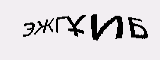Б: (127, 13, 149, 42)
Г: (51, 14, 66, 34)
Ж: (34, 17, 55, 36)
И: (90, 10, 123, 41)
Э: (17, 19, 36, 39)
Ұ: (66, 12, 85, 39)
